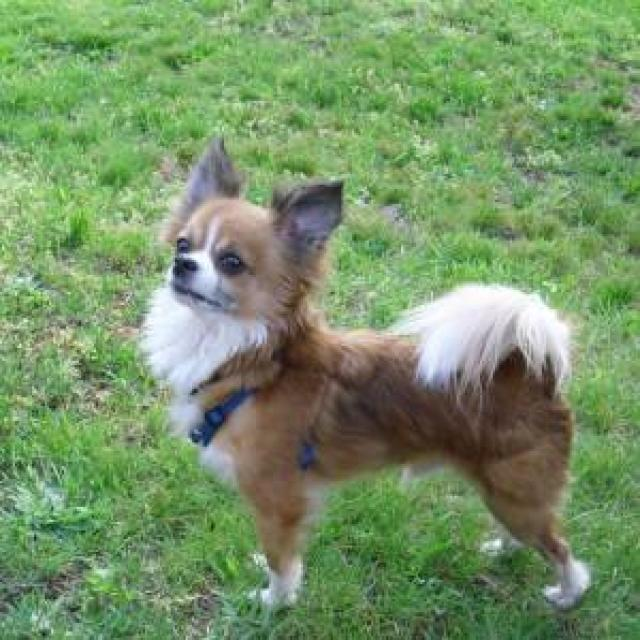dog-chihuahua: (132, 131, 597, 612)
